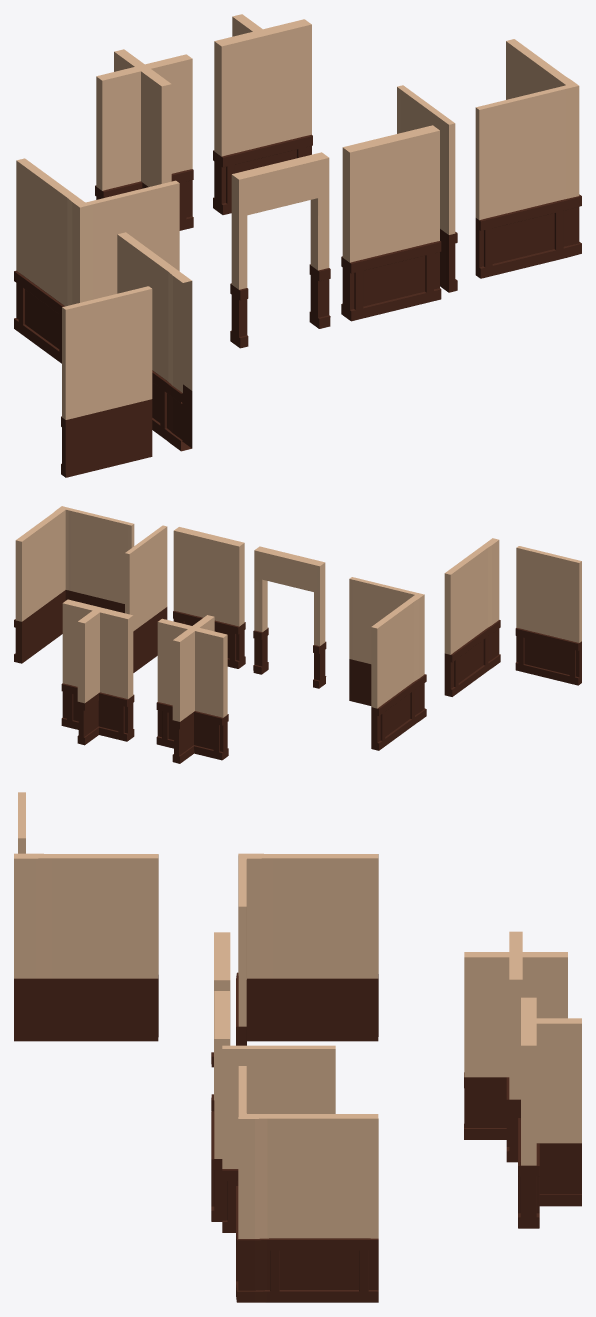
Rendered from game level map_&_walls3.fbx.
The picture shows the model from 3 angles, top to bottom: view 1: azimuth 30°, elevation 25°; view 2: azimuth 150°, elevation 25°; view 3: azimuth 270°, elevation 25°; orthographic projection. The views are drawn at different scales.
Visible parts, largest first — view 1: Cube.006, Cube.005, Cube.002, Cube.008, Cube.009, Cube.010, Cube.003, Cube.007, Cube.004; view 2: Cube.006, Cube.005, Cube.010, Cube.009, Cube.008, Cube.002, Cube.007, Cube.003, Cube.004; view 3: Cube.006, Cube.007, Cube.005, Cube.010, Cube.009, Cube.004, Cube.002, Cube.003.
Boxes of the visible parts, <box> form: Cube.006: <box>475,39,581,278</box>; Cube.005: <box>14,158,179,363</box>; Cube.002: <box>341,125,441,321</box>; Cube.008: <box>61,286,152,477</box>; Cube.009: <box>213,14,312,214</box>; Cube.010: <box>95,49,193,230</box>; Cube.003: <box>230,152,330,348</box>; Cube.007: <box>117,232,192,451</box>; Cube.004: <box>397,85,457,292</box>; Cube.006: <box>14,506,134,663</box>; Cube.005: <box>349,577,426,750</box>; Cube.010: <box>156,615,228,763</box>; Cube.009: <box>61,599,134,745</box>; Cube.008: <box>515,546,581,685</box>; Cube.002: <box>173,527,245,668</box>; Cube.007: <box>444,538,500,696</box>; Cube.003: <box>253,546,326,688</box>; Cube.004: <box>125,525,167,672</box>; Cube.006: <box>236,1066,378,1302</box>; Cube.007: <box>14,853,158,1041</box>; Cube.005: <box>236,853,378,1045</box>; Cube.010: <box>464,931,567,1162</box>; Cube.009: <box>518,997,581,1228</box>; Cube.004: <box>222,1045,335,1232</box>; Cube.002: <box>211,991,229,1221</box>; Cube.003: <box>211,932,230,1111</box>.
Bounding box in the file's own units: 2256 × 587 × 1652.
